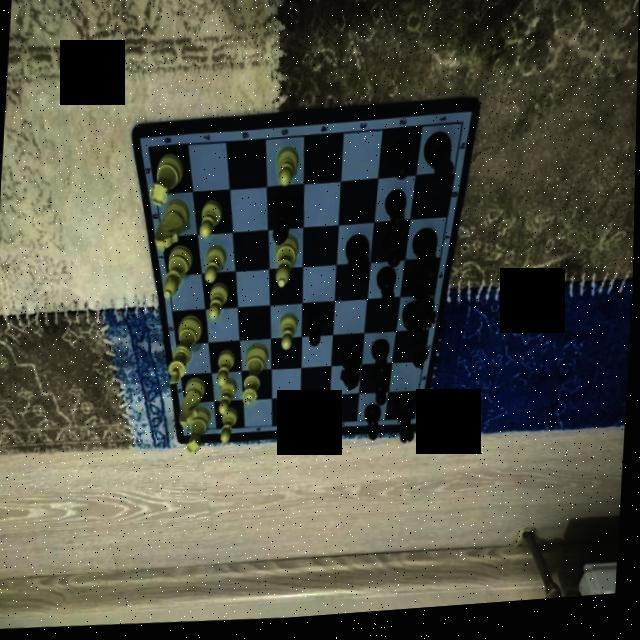chess-table-corners: (458, 121, 470, 138), (142, 142, 156, 156), (186, 427, 196, 438), (412, 418, 420, 429)
